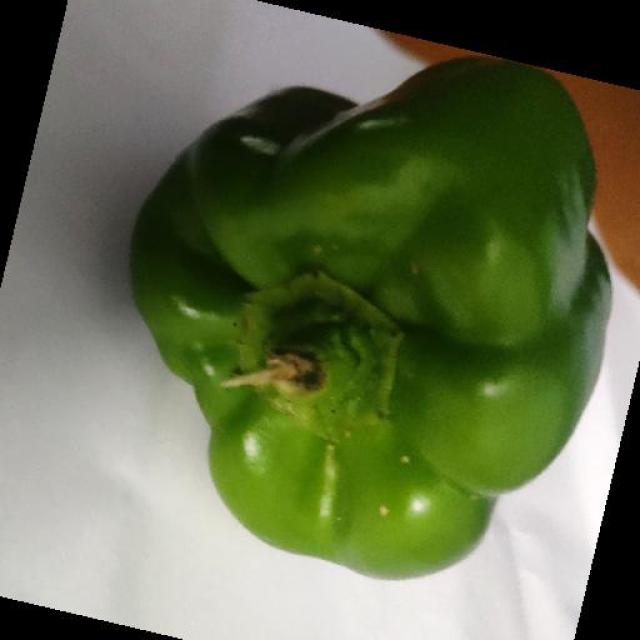Fresh_Capsicum: (128, 94, 515, 498)
